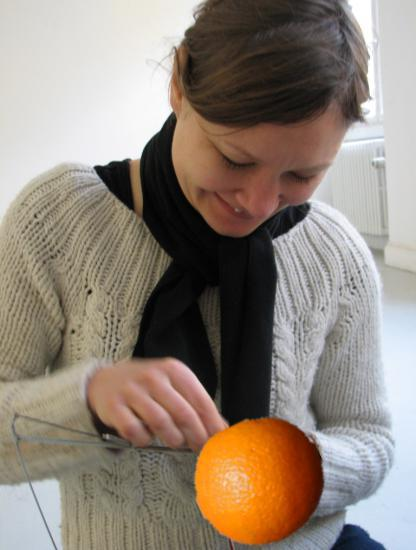Orange: (194, 416, 326, 548)
